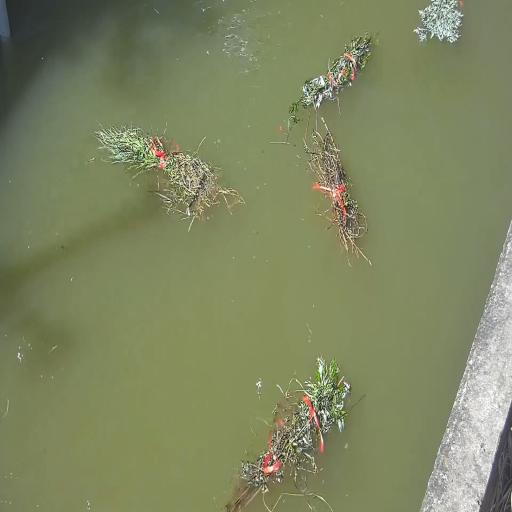twig: (223, 354, 354, 510), (91, 100, 234, 224), (306, 115, 371, 269), (280, 34, 371, 140), (92, 120, 163, 177), (414, 0, 465, 45)
